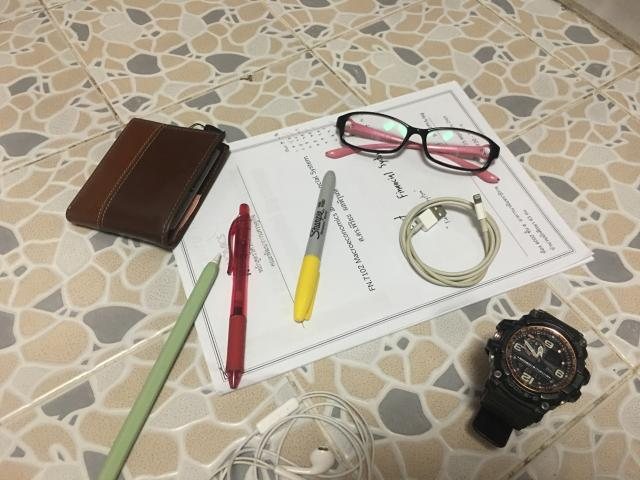Glasses: (325, 111, 500, 182)
Pen: (294, 170, 336, 322), (225, 204, 251, 389)
Wallet: (66, 118, 230, 249)
Watch: (472, 310, 590, 448)
paper: (147, 82, 592, 394)
wire: (212, 391, 375, 480), (399, 194, 501, 288)
